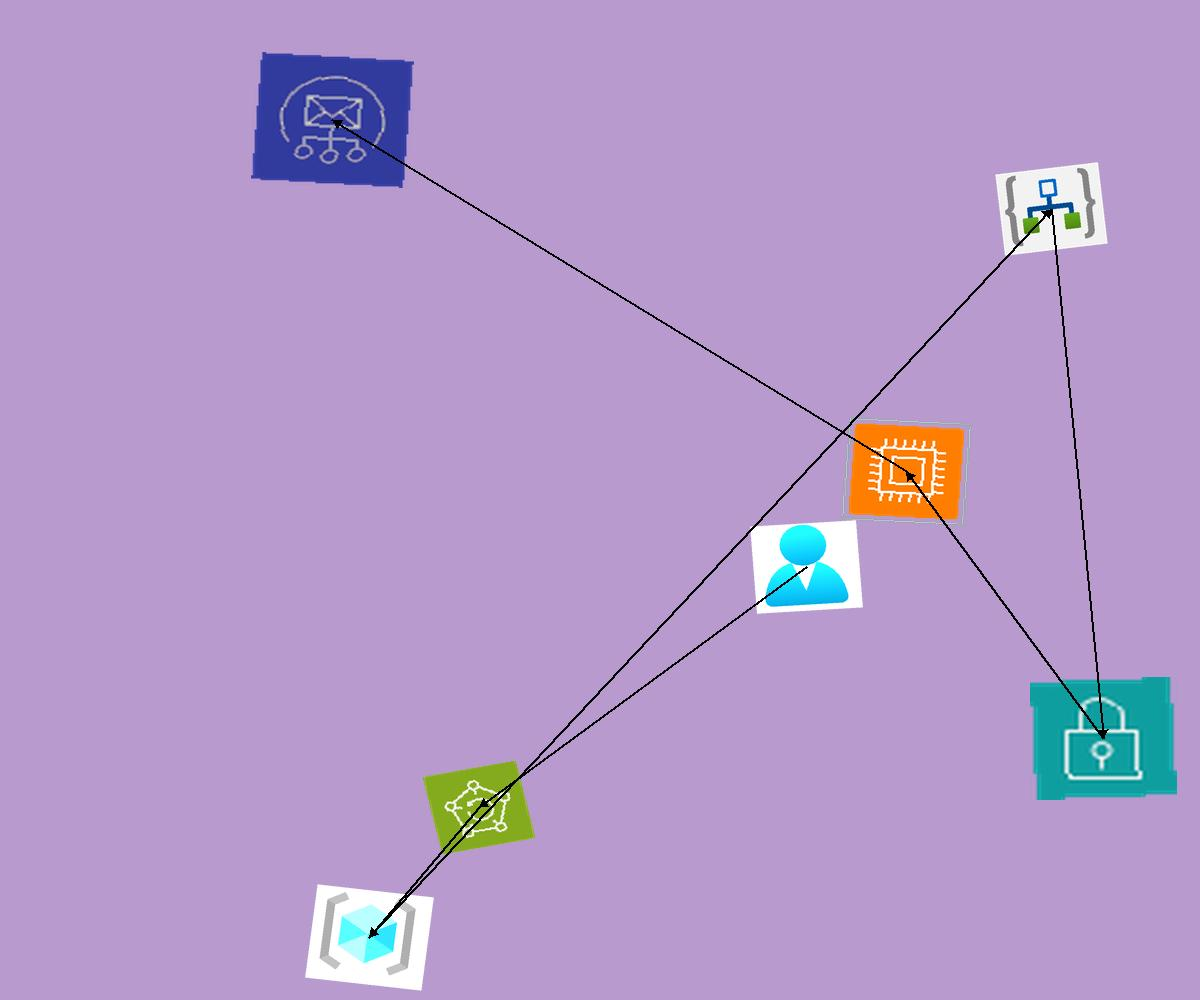AWS-Backup: (422, 760, 536, 855)
AWS-Category_Compute: (841, 417, 972, 526)
AWS-Private-subnet: (1030, 677, 1177, 800)
AWS-Simple-Email-Service: (251, 52, 414, 188)
Azure_integration-204-Logic-Apps: (995, 162, 1108, 256)
Azure_resource_group: (305, 884, 434, 991)
Azure_users: (750, 520, 863, 614)
